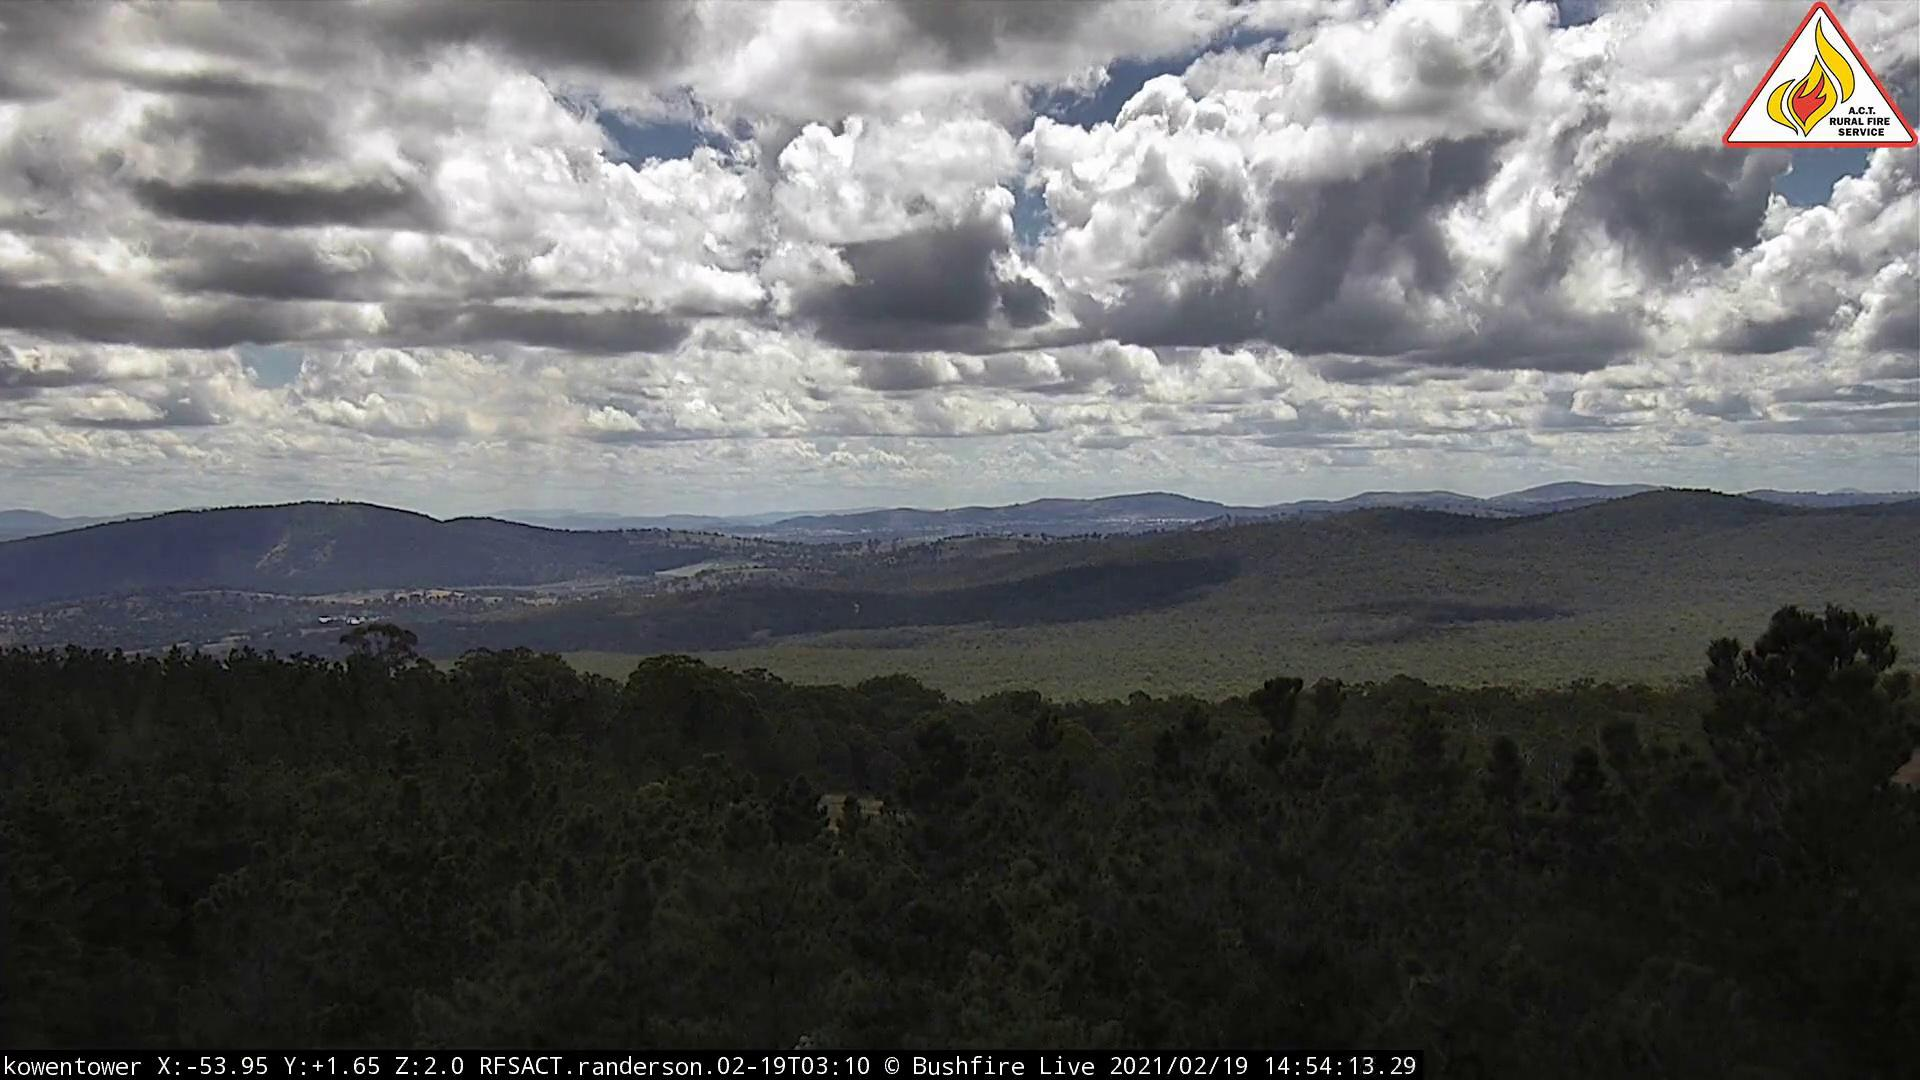Smoke: (822, 479, 982, 547)
